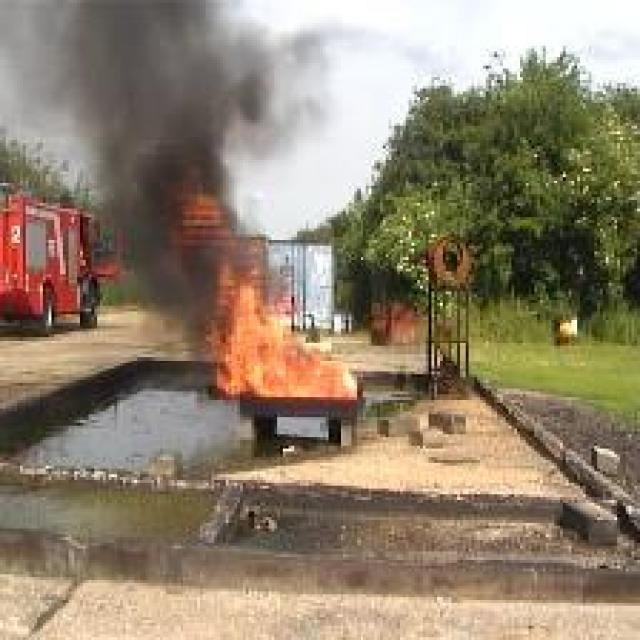Fire: (204, 263, 358, 400)
